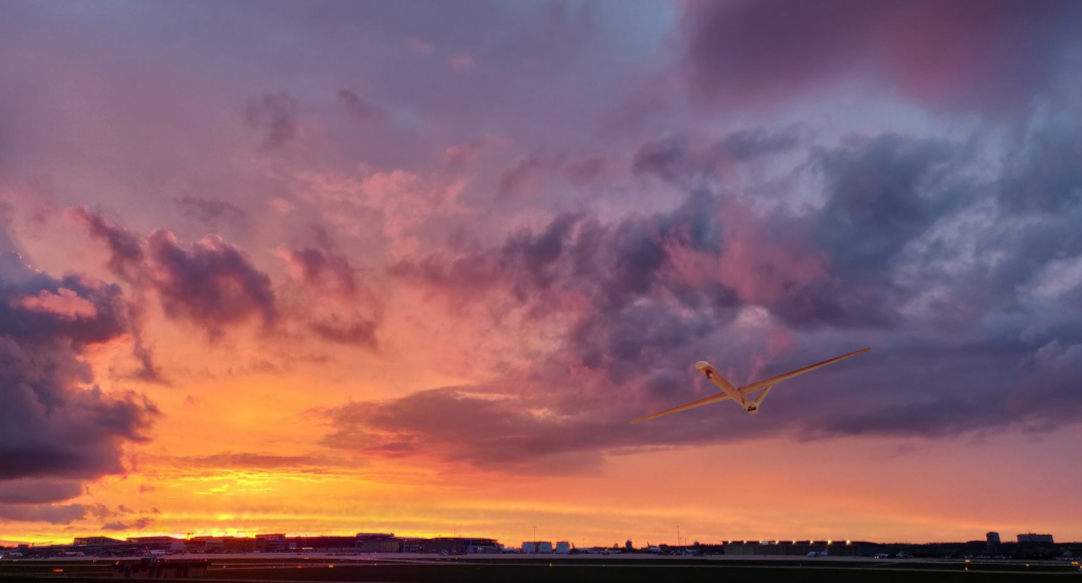military drone: (627, 346, 870, 425)
